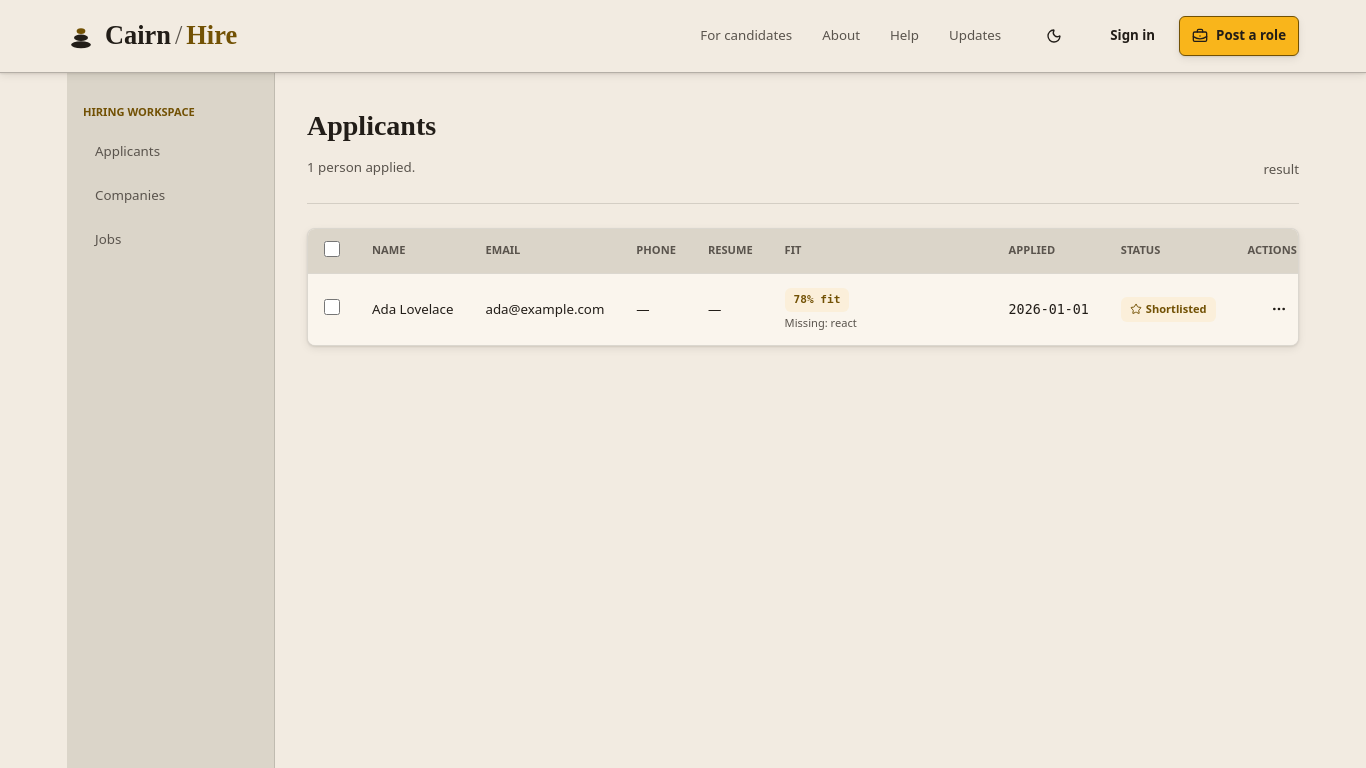
it: Applicants › offers every recruiter-settable stage and never the current one
Click the button named "Change status for Ada Lovelace" at coordinates (1279, 309), box top-left (1261, 291), bottom-right (1297, 327)
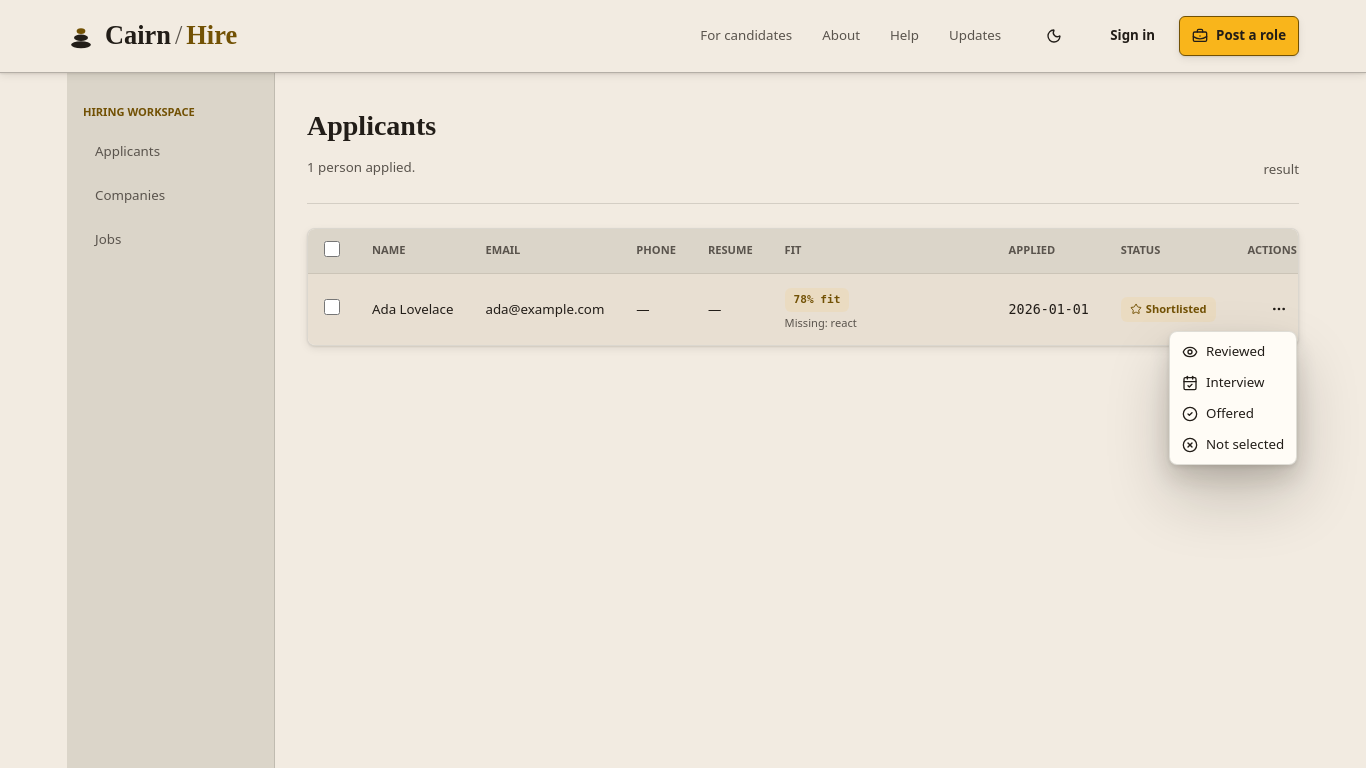
Check: the menu item "Interview" is shown, box top-left (1182, 373), bottom-right (1264, 391)
Check: the menu item "Not selected" is shown, box top-left (1182, 435), bottom-right (1284, 453)
